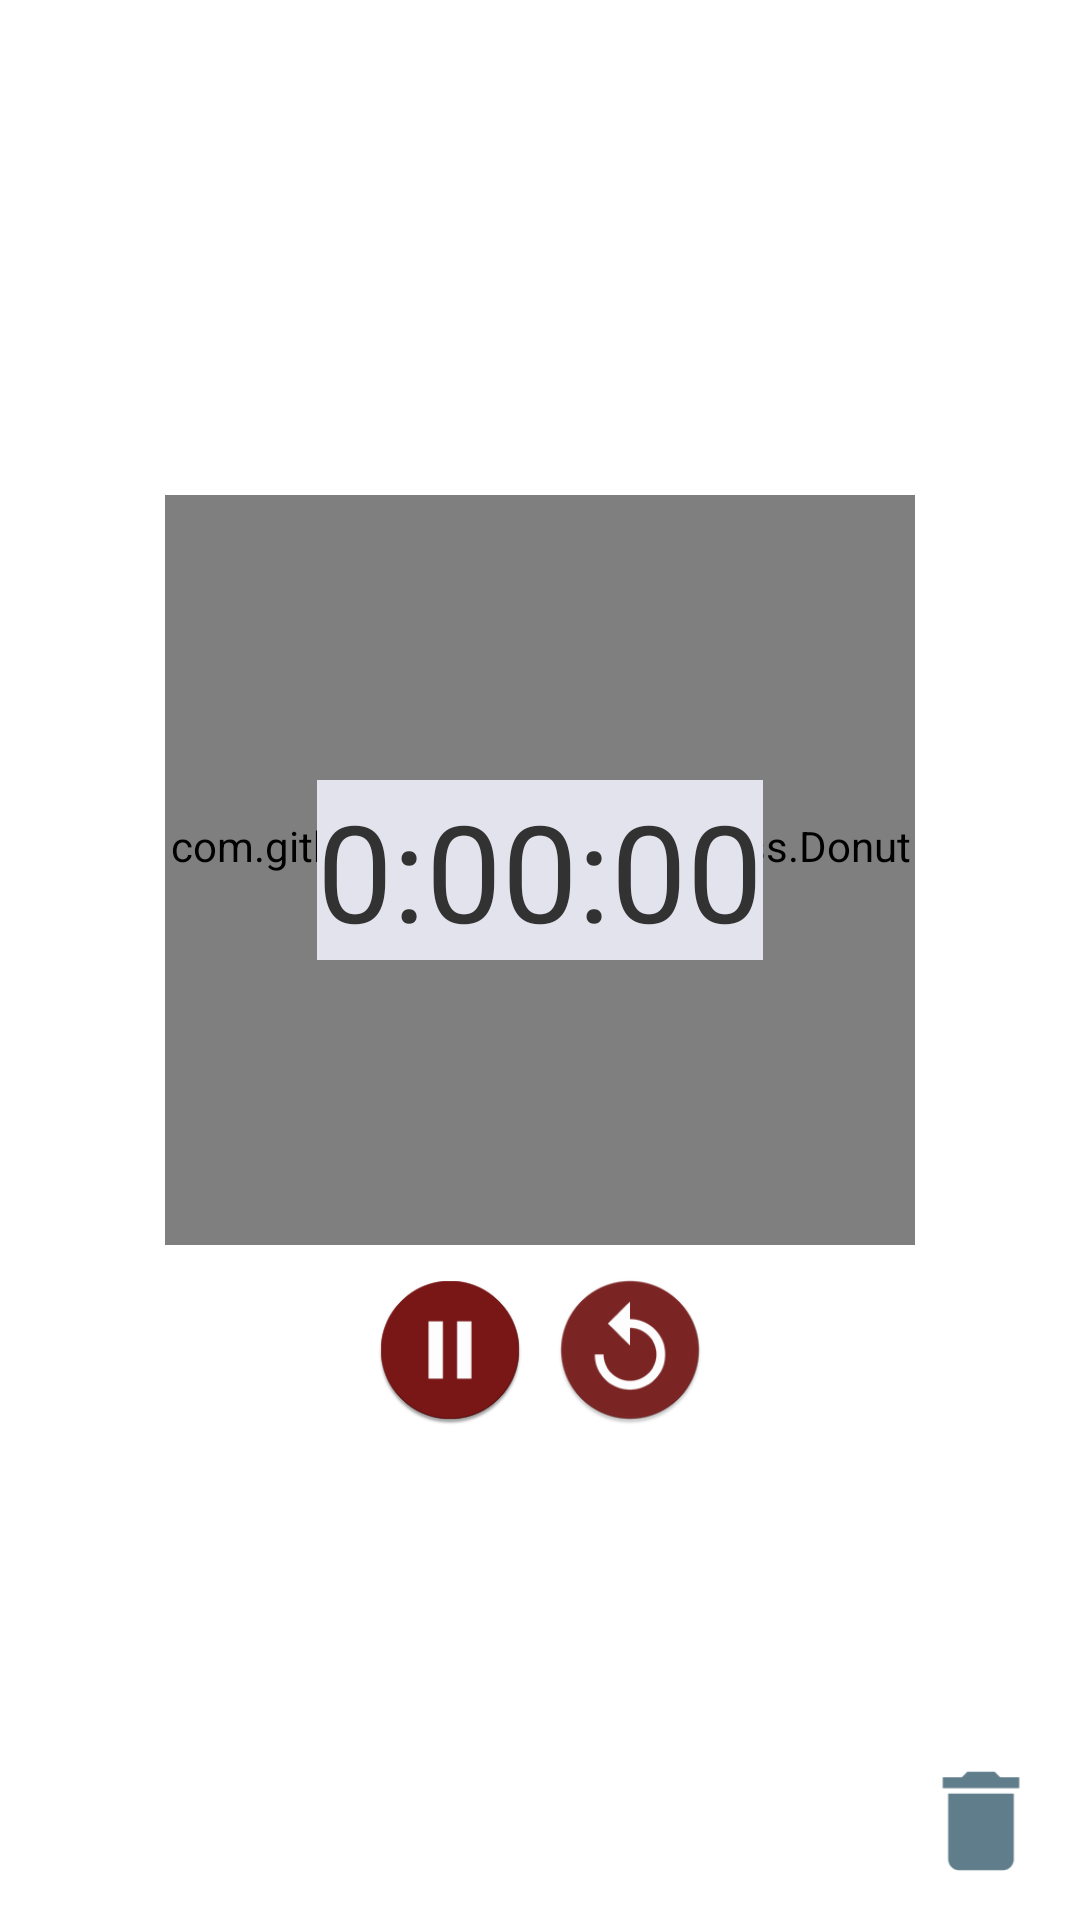

Icons on this 1080px x 1920px Android screen, each with the point to tap as (x,y):
delete: (981,1821)
refresh: (630,1351)
